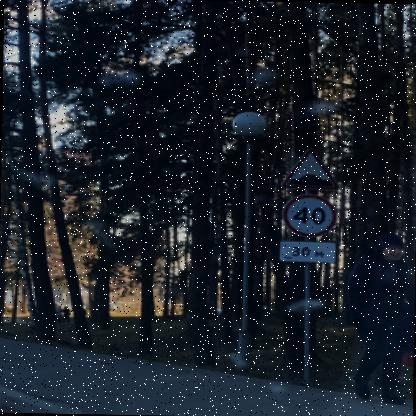speedlimit: (280, 190, 335, 233)
